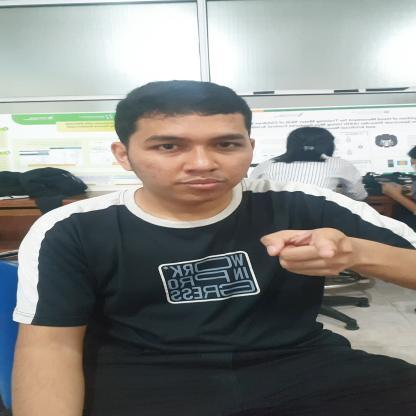Kamu: (248, 210, 393, 310)
